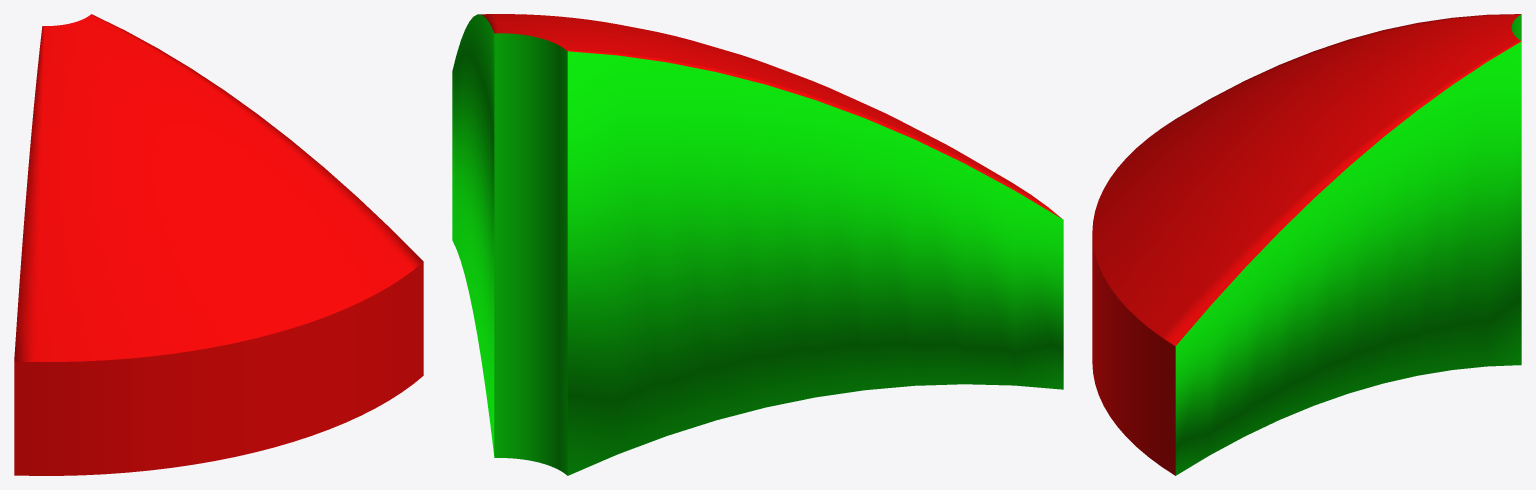
Rendered from ChickenOfTheWoods_Growth.glb.
The picture shows the model from 3 angles, left to right: view 1: azimuth 30°, elevation 25°; view 2: azimuth 150°, elevation 25°; view 3: azimuth 270°, elevation 25°; orthographic projection. The views are drawn at different scales.
Visible parts, largest first — view 1: ChickenOfTheWoods; view 2: ChickenOfTheWoods; view 3: ChickenOfTheWoods.
Boxes of the visible parts, x1,y1,x2,y2 form: ChickenOfTheWoods: (14,14,423,475); ChickenOfTheWoods: (452,14,1063,475); ChickenOfTheWoods: (1092,14,1521,475).
Bounding box in the file's own units: 0.00903 × 0.0062 × 0.00721.
